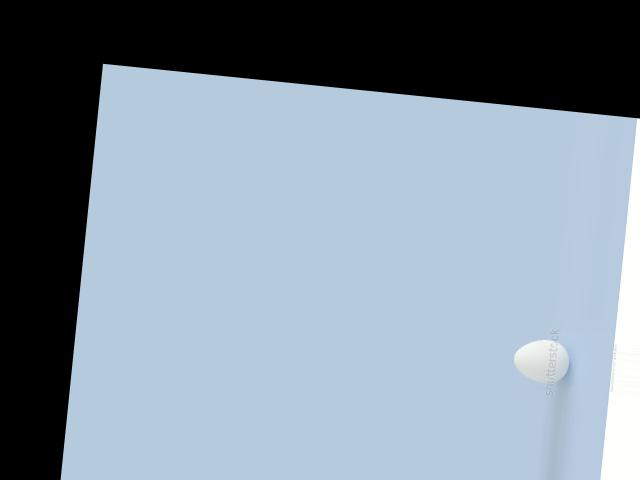egg: (511, 336, 571, 385)
